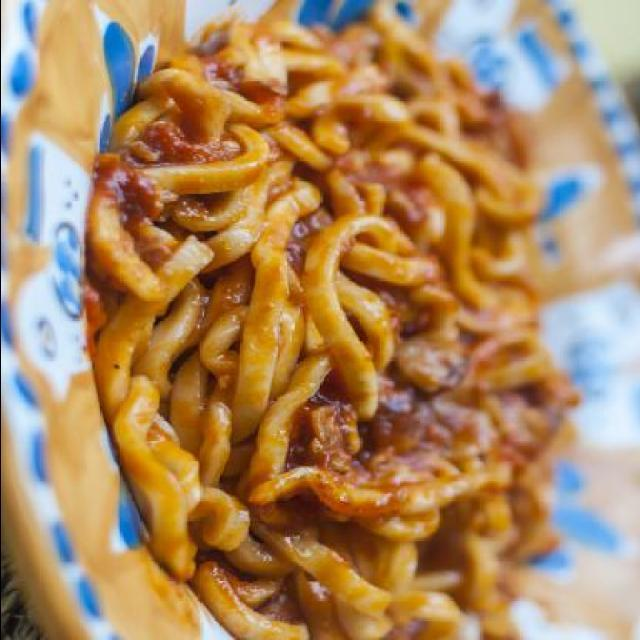Pasta al ragu: (87, 26, 571, 636)
